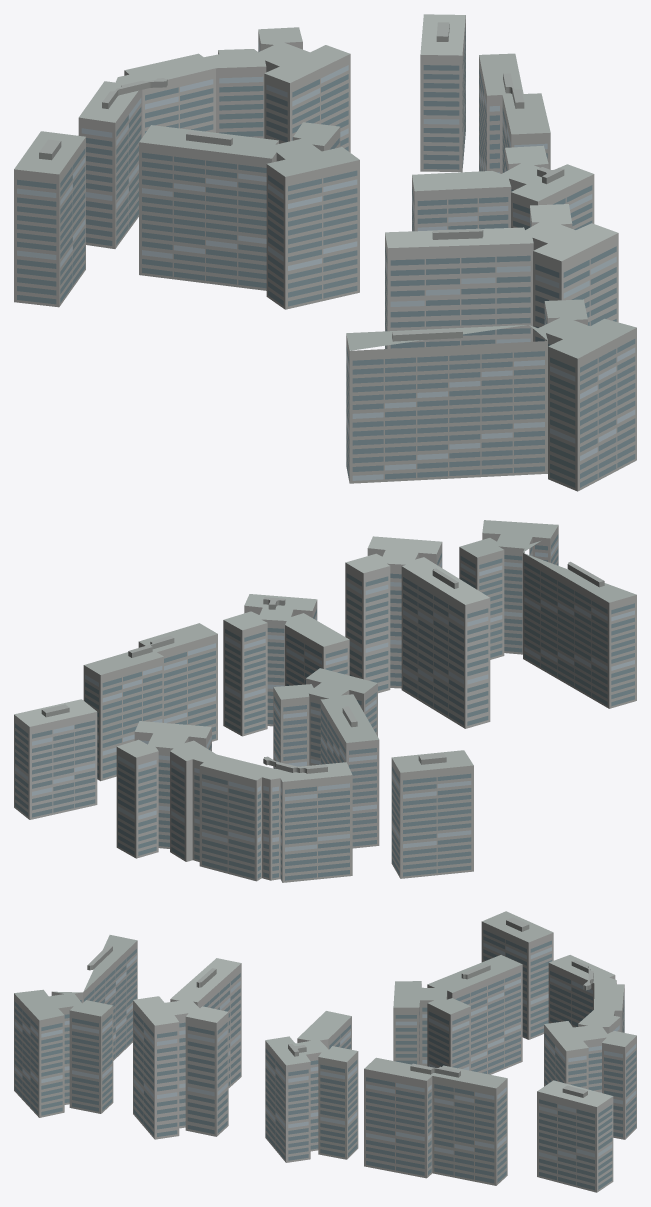
File: apt-a15728003.glb
3 views of the same model, one above another, from view 1: azimuth 30°, elevation 25°; view 2: azimuth 150°, elevation 25°; view 3: azimuth 270°, elevation 25° (orthographic). The views are drawn at different scales.
Parts seen in each view (by area): view 1: apt-a15728003; view 2: apt-a15728003; view 3: apt-a15728003.
Boxes of the visible parts, box(x1,y1,x2,y2) form: apt-a15728003: box(14, 14, 636, 491); apt-a15728003: box(14, 520, 636, 882); apt-a15728003: box(14, 911, 636, 1192).
Size of the model in its own units: 158 by 47.81 by 227.
